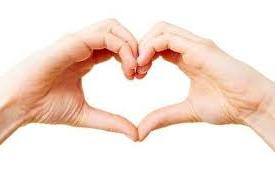Heart: (1, 17, 261, 142)
